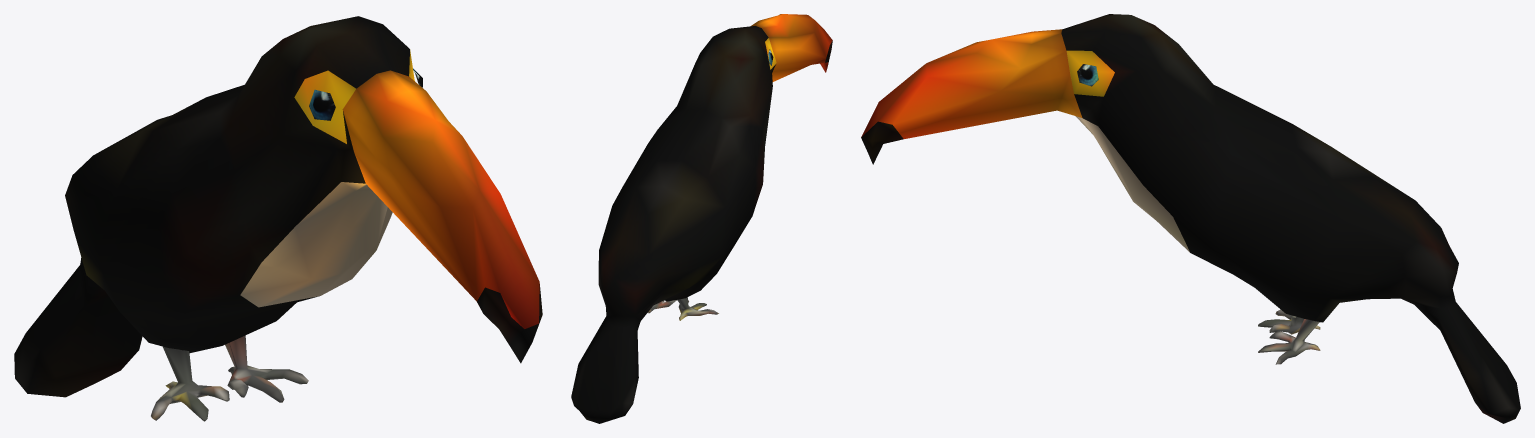
The model's file is Toucan.glb.
The picture shows the model from 3 angles, left to right: view 1: azimuth 30°, elevation 25°; view 2: azimuth 150°, elevation 25°; view 3: azimuth 270°, elevation 25°; orthographic projection. The views are drawn at different scales.
Parts seen in each view (by area): view 1: Toucan; view 2: Toucan; view 3: Toucan.
Part boxes in pixels (x1=…): Toucan: x1=14, y1=16, x2=542, y2=421; Toucan: x1=571, y1=14, x2=832, y2=423; Toucan: x1=861, y1=14, x2=1520, y2=423.
Size of what is drawn, in the model's own units: 0.3536 by 0.8719 by 1.31.
1 material, 1 textured.
